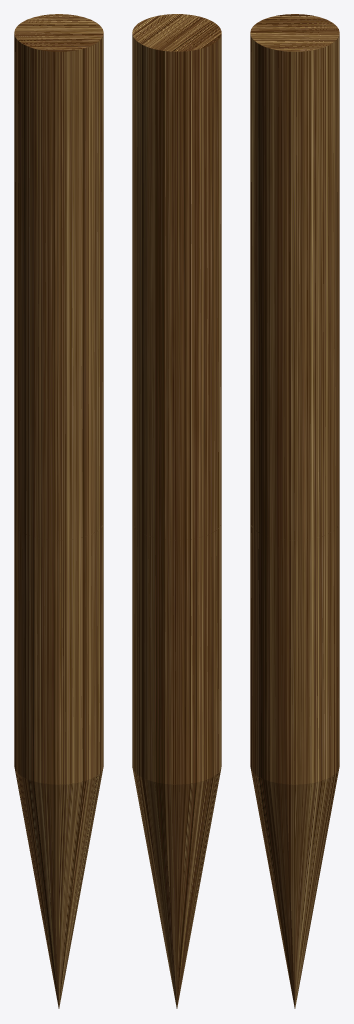
The model's file is estaca.fbx.
3 views of the same model, side by side, from view 1: azimuth 90°, elevation 25°; view 2: azimuth 150°, elevation 25°; view 3: azimuth 270°, elevation 25° (orthographic).
Parts seen in each view (by area): view 1: Cylinder; view 2: Cylinder; view 3: Cylinder.
Boxes of the visible parts, bbox=[...] form: Cylinder: bbox=[14, 14, 103, 1008]; Cylinder: bbox=[132, 14, 221, 1008]; Cylinder: bbox=[250, 14, 339, 1008].
Bounding box in the file's own units: 59.4 × 715 × 59.4.
